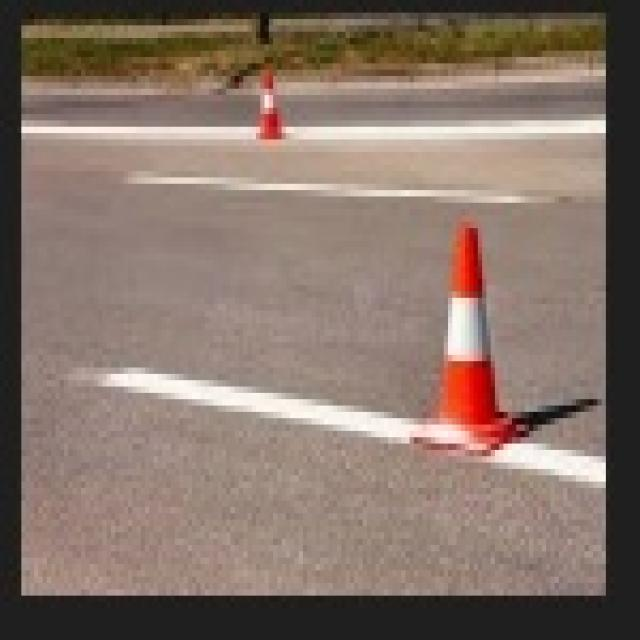cone: (410, 184, 520, 494), (239, 63, 294, 133)
